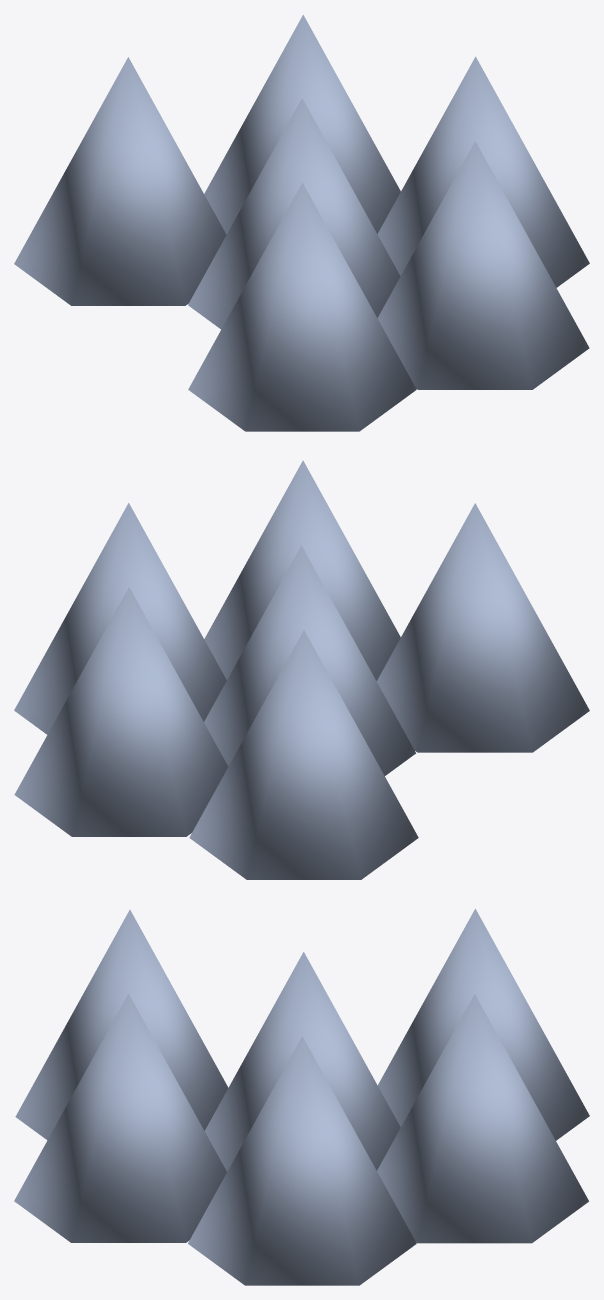
Rendered from uskomattomatPiikit.fbx.
3 views of the same model, one above another, from view 1: azimuth 30°, elevation 25°; view 2: azimuth 150°, elevation 25°; view 3: azimuth 270°, elevation 25° (orthographic).
Visible parts, largest first — view 1: Cone.006; view 2: Cone.006; view 3: Cone.006.
Part boxes in pixels (x1=…): Cone.006: x1=14, y1=15, x2=589, y2=431; Cone.006: x1=14, y1=460, x2=589, y2=879; Cone.006: x1=14, y1=908, x2=589, y2=1285.
Bounding box in the file's own units: 109 × 50 × 126.
